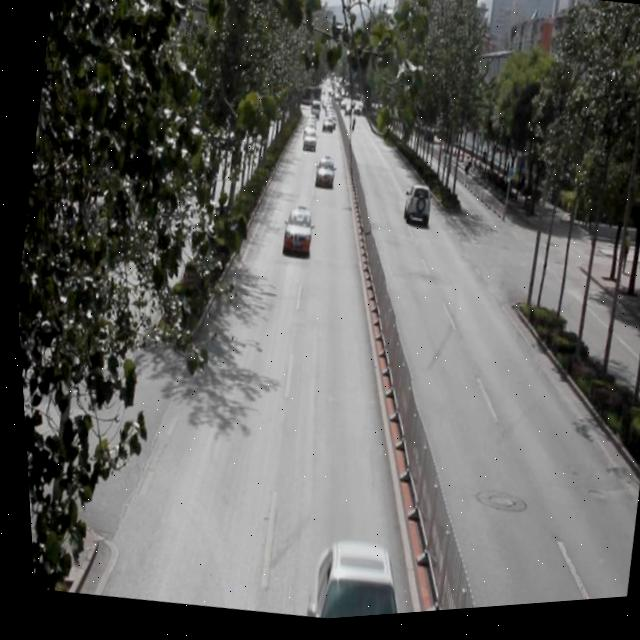car: (294, 536, 407, 624), (276, 206, 312, 258), (397, 187, 429, 232), (309, 159, 333, 193)
